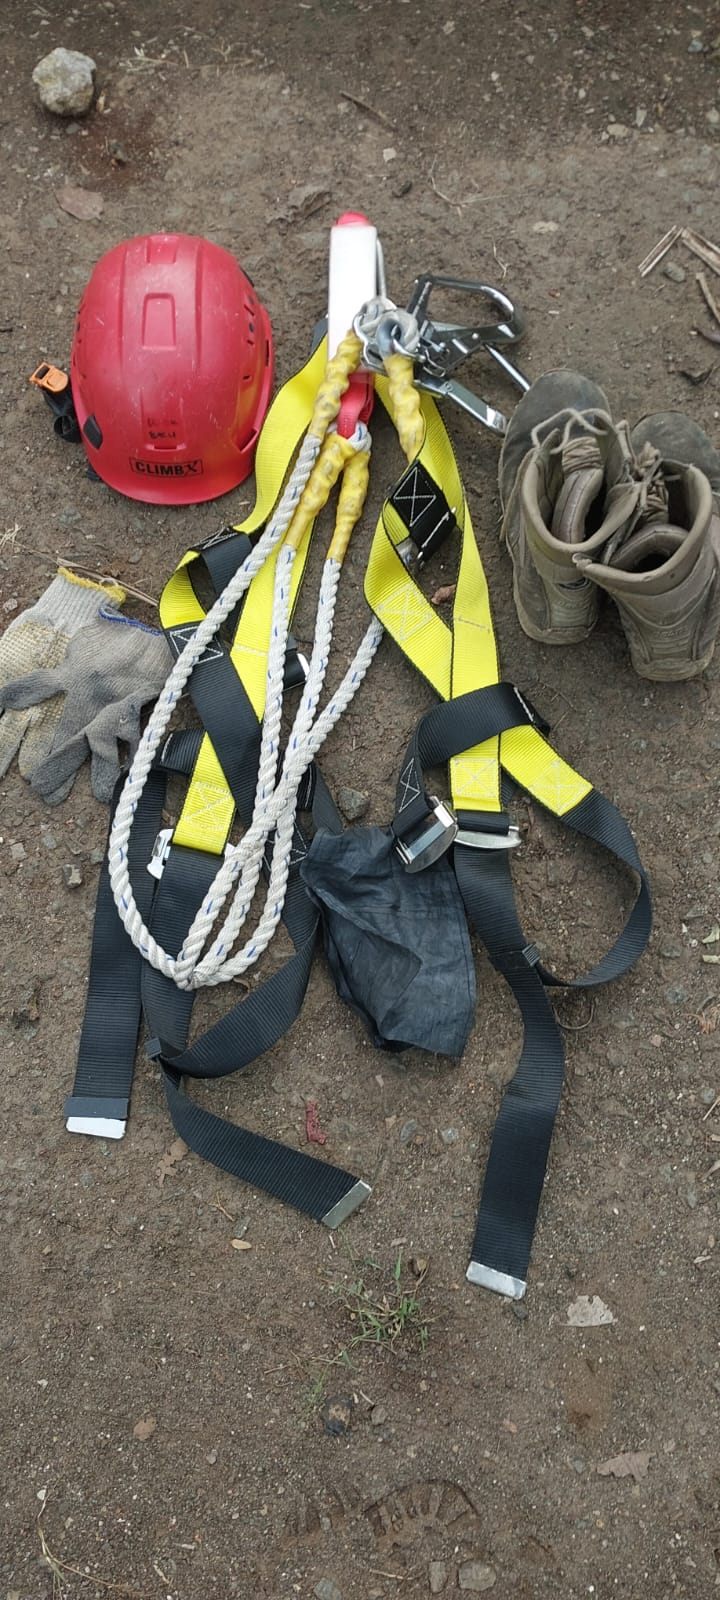HELM: (80, 233, 257, 493)
SEPATU: (522, 399, 714, 658)
